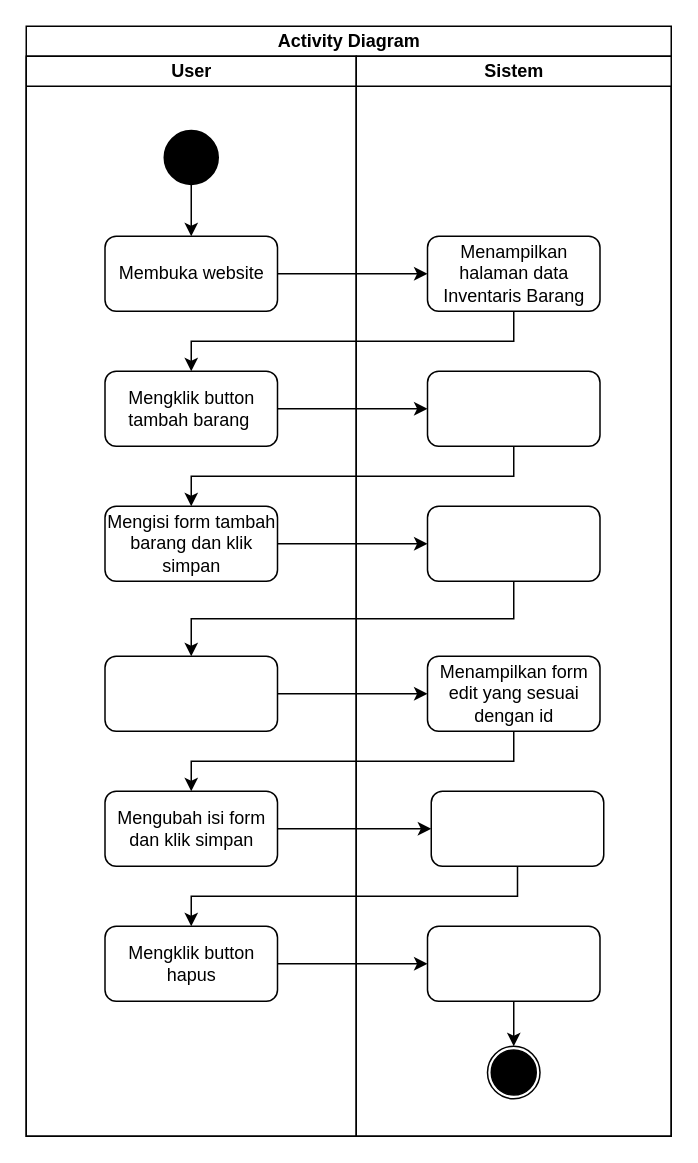
Some shapes in this 698 by 1163 pixel diagram are drawn without their labels. Each missing label, with the centre of its shape:
Menampilkan form tambah barang: the point at 513,408
Menghapus data barang: the point at 513,963
Mengklik button edit: the point at 191,693
mengupdate data barang: the point at 517,828
Menyimpan data barang: the point at 513,543
